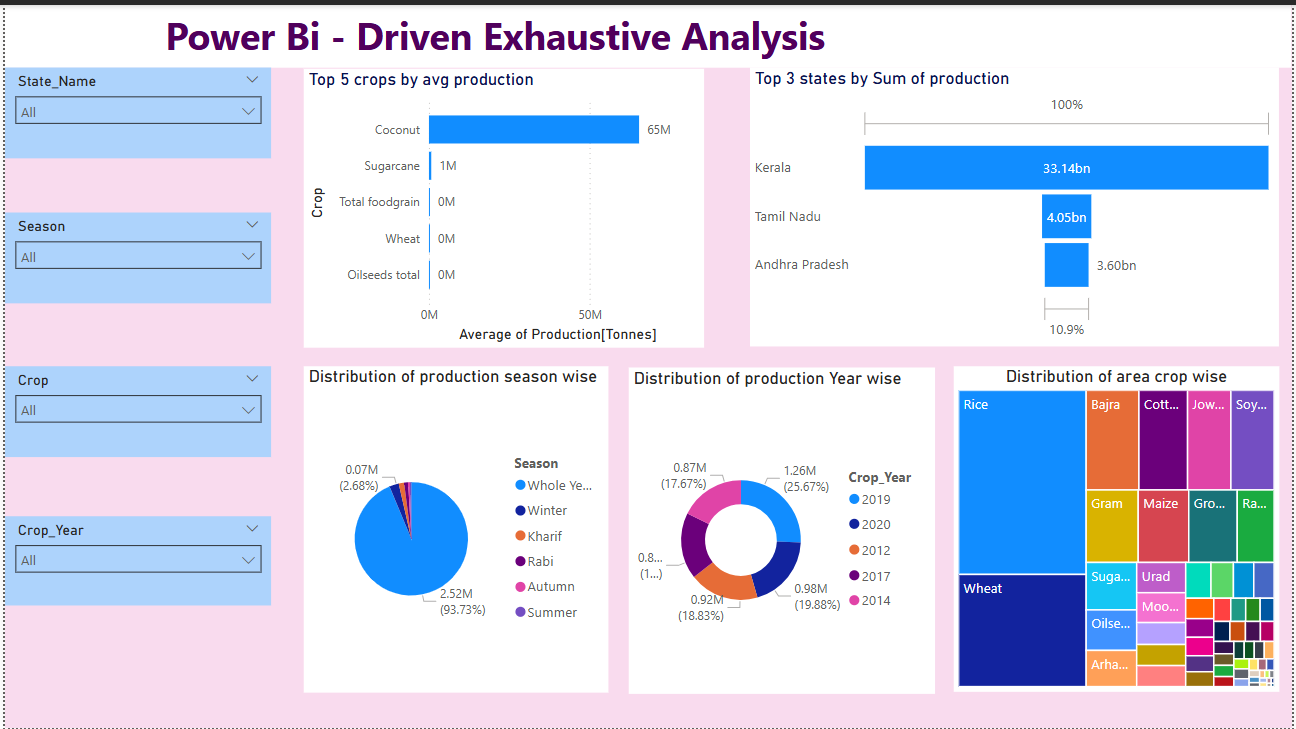

This screenshot's page, from the dashboard's own definition file:
{"tool":"powerbi","page":{"name":"Page 1","canvas":[1280,720],"ordinal":0},"visuals":[{"type":"textbox","box":[0,0,1280,62.5],"z":0},{"type":"slicer","fields":{"Values":["Crop_data.State_Name"]},"box":[0,62.5,265,90],"z":1000},{"type":"slicer","fields":{"Values":["Crop_data.Crop"]},"box":[0,360,265,90],"z":2000},{"type":"slicer","fields":{"Values":["Crop_data.Season"]},"box":[0,206.2,265,90],"z":3000},{"type":"slicer","fields":{"Values":["Crop_data.Crop_Year"]},"box":[0,508.8,265,88.8],"z":4000},{"type":"barChart","title":"Top 5 crops by avg production","fields":{"Y":["Avg(Crop_data.Production[Tonnes])"],"Category":["Crop_data.Crop"]},"box":[321.2,62.5,397.5,277.5],"z":5000},{"type":"funnel","title":"Top 3 states by Sum of production","fields":{"Category":["Crop_data.State_Name"],"Y":["Sum(Crop_data.Production[Tonnes])"]},"box":[718.8,62.5,548.8,277.5],"z":6000},{"type":"pieChart","title":"Distribution of production season wise","fields":{"Category":["Crop_data.Season"],"Y":["Avg(Crop_data.Production[Tonnes])"]},"box":[321.2,360,303.8,323.8],"z":7000},{"type":"donutChart","title":"Distribution of production Year wise","fields":{"Category":["Crop_data.Crop_Year"],"Y":["Avg(Crop_data.Production[Tonnes])"]},"box":[640,360,303.8,323.8],"z":8000},{"type":"treemap","title":"Distribution of area crop wise","fields":{"Values":["Sum(Crop_data.Area[Hectars])"],"Group":["Crop_data.Crop"]},"box":[944,360,324,324],"z":9000}]}

Visuals, with their boxes in screenshot pixels (x1, y1, x2, y2), scaled from the page's 1280x720 canvas onto the 1296x729 screenshot:
textbox: [x1=0, y1=0, x2=1295, y2=63]
slicer - Crop_data.State_Name: [x1=0, y1=63, x2=268, y2=154]
slicer - Crop_data.Crop: [x1=0, y1=364, x2=268, y2=456]
slicer - Crop_data.Season: [x1=0, y1=209, x2=268, y2=300]
slicer - Crop_data.Crop_Year: [x1=0, y1=515, x2=268, y2=605]
"Top 5 crops by avg production" barChart: [x1=325, y1=63, x2=728, y2=344]
"Top 3 states by Sum of production" funnel: [x1=728, y1=63, x2=1283, y2=344]
"Distribution of production season wise" pieChart: [x1=325, y1=364, x2=633, y2=692]
"Distribution of production Year wise" donutChart: [x1=648, y1=364, x2=956, y2=692]
"Distribution of area crop wise" treemap: [x1=956, y1=364, x2=1284, y2=693]
